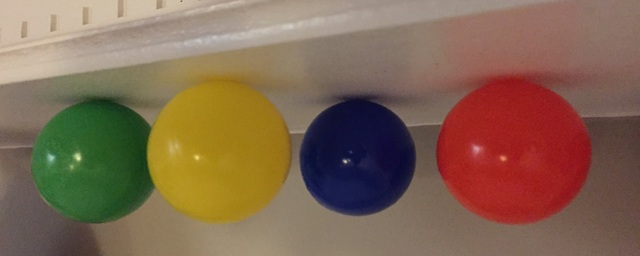Ball: (437, 78, 593, 224)
